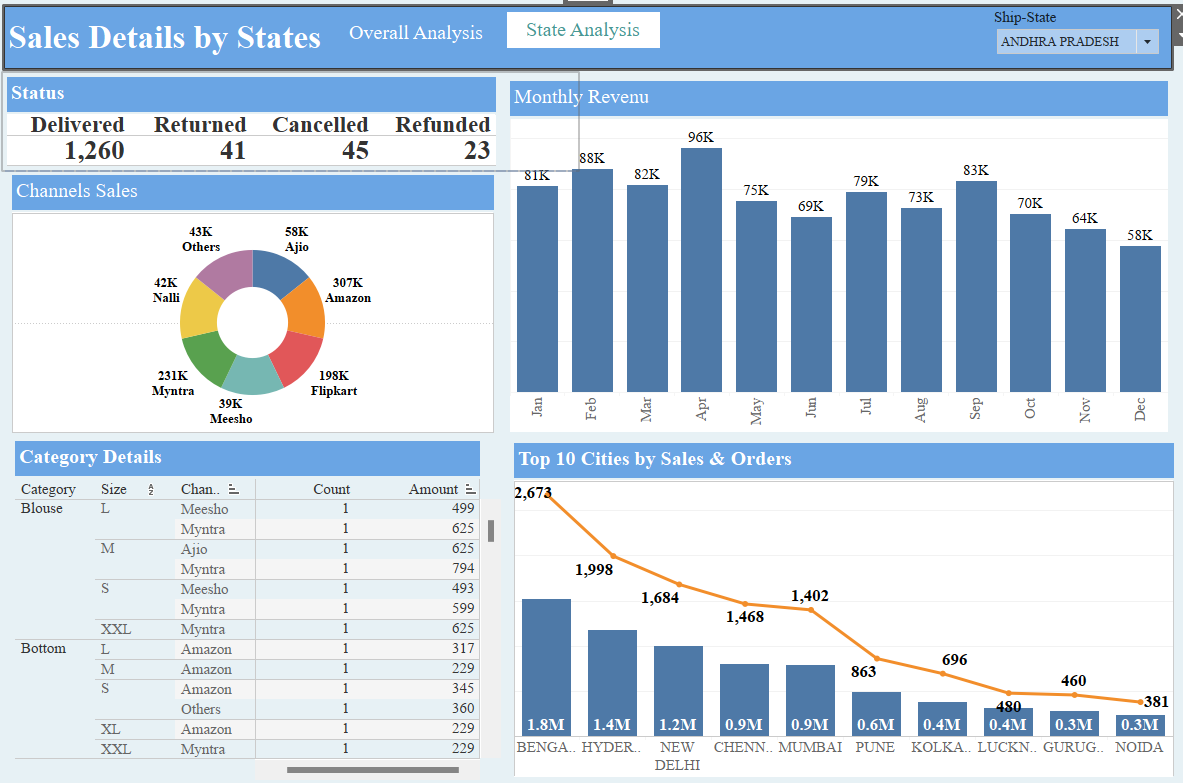

Layout of this report page (visuals, bound fields, positions):
{"tool":"tableau","page":{"name":"Dashboard 2","canvas":[1200,800],"ordinal":1},"visuals":[{"type":"text","box":[14,22,1168,63]},{"type":"filter","title":"Channels Sales","param":"[federated.02rkp1y1lznhpd12w5dop174ibxy].[none:ship-state:nk]","box":[1004,25,168,47]},{"type":"dashboard-object","box":[345,31,162,35]},{"type":"dashboard-object","box":[508,31,153,36]},{"type":"worksheet","title":"Status","mark":"Automatic","cols":["Status"],"box":[13,89,575,97]},{"type":"worksheet","title":"Monthly Revenu","mark":"Automatic","rows":["Amount"],"cols":["Month"],"box":[516,93,666,359]},{"type":"worksheet","title":"Channels Sales","mark":"Pie","rows":["Calculation_604889763275763712","Calculation_604889763275763712"],"box":[18,187,490,266]},{"type":"worksheet","title":"Top 10 cities","mark":"Bar","rows":["Order ID","Amount"],"cols":["ship-city"],"box":[520,455,668,342]},{"type":"worksheet","title":"Category details","mark":"Automatic","rows":["Category","Size","Channel"],"box":[25,457,469,333]}]}

Visuals, with their boxes in screenshot pixels (x1, y1, x2, y2), scaled from the page's 1200x800 canvas onto the 1183x783 screenshot:
text: BBox(14, 22, 1165, 83)
"Channels Sales" filter: BBox(990, 24, 1155, 70)
dashboard-object: BBox(340, 30, 500, 65)
dashboard-object: BBox(501, 30, 652, 66)
"Status" worksheet: BBox(13, 87, 580, 182)
"Monthly Revenu" worksheet: BBox(509, 91, 1165, 442)
"Channels Sales" worksheet (Pie marks): BBox(18, 183, 501, 443)
"Top 10 cities" worksheet (Bar marks): BBox(513, 445, 1171, 780)
"Category details" worksheet: BBox(25, 447, 487, 773)
